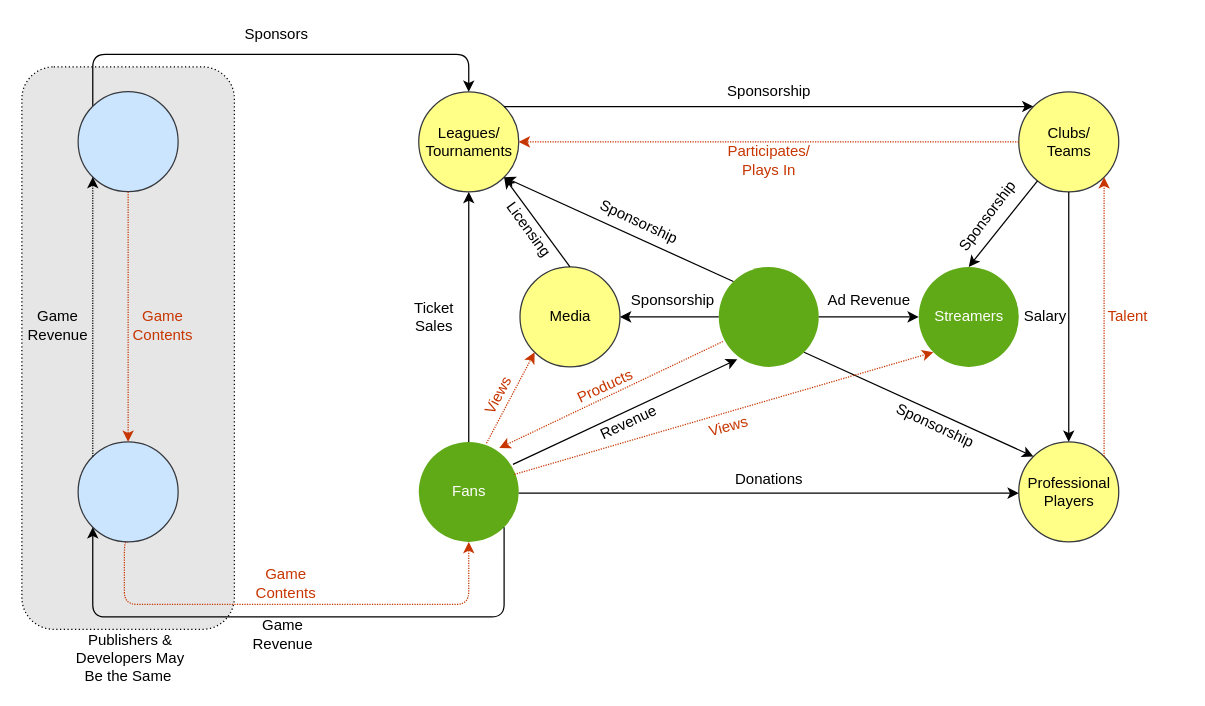
Some shapes in this 1205 by 706 pixel diagram are drawn without their labels. Here are the shapes that lost their labels. From the top down, the box of each, then its label:
(77, 90, 178, 192): Game Developers
(718, 266, 818, 366): Sponsors/ Advertisers
(77, 441, 178, 542): Game Publishers
